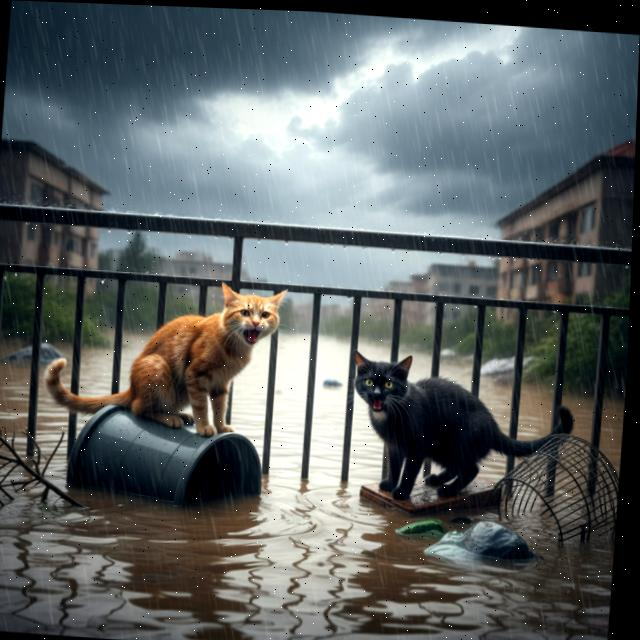cat: (330, 336, 581, 521), (39, 270, 291, 452)
